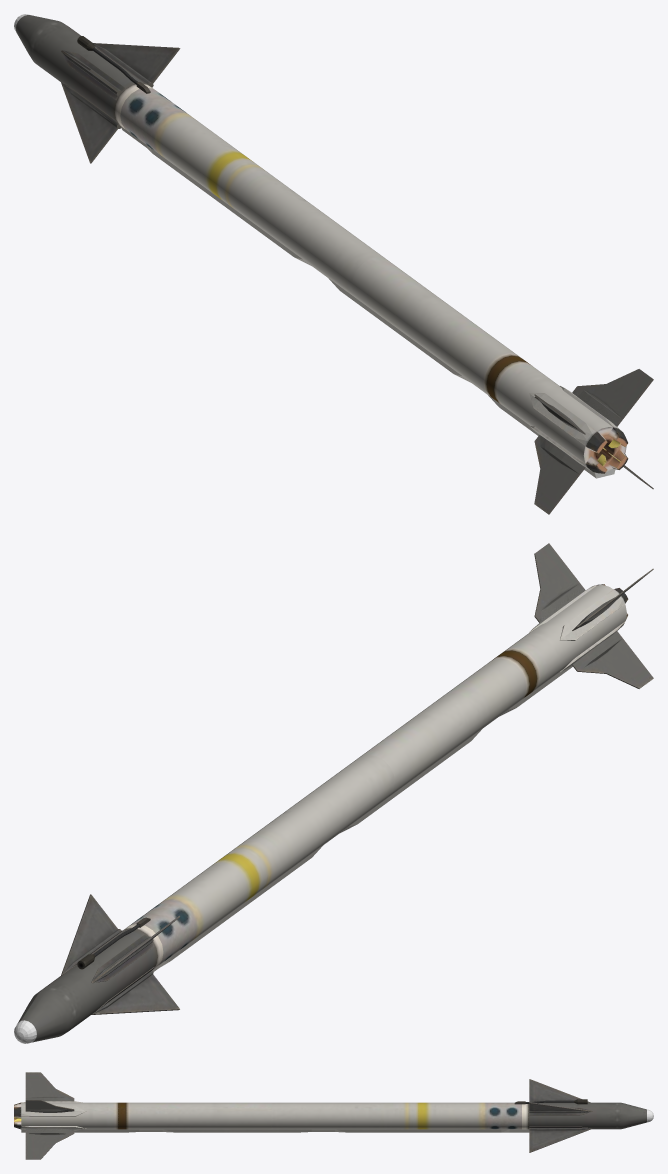
The model's file is aam_aim9x.glb.
3 views of the same model, one above another, from view 1: azimuth 30°, elevation 25°; view 2: azimuth 150°, elevation 25°; view 3: azimuth 270°, elevation 25° (orthographic). The views are drawn at different scales.
Parts seen in each view (by area): view 1: body|w_qaam_a0-Mat; view 2: body|w_qaam_a0-Mat; view 3: body|w_qaam_a0-Mat.
Part boxes in pixels (box(x1,y1,x2,y2)): body|w_qaam_a0-Mat: box(16, 15, 653, 514); body|w_qaam_a0-Mat: box(17, 543, 653, 1042); body|w_qaam_a0-Mat: box(14, 1072, 646, 1159).
Size of the model in its own units: 0.3099 by 0.3099 by 3.01.
2 materials, 1 textured.
